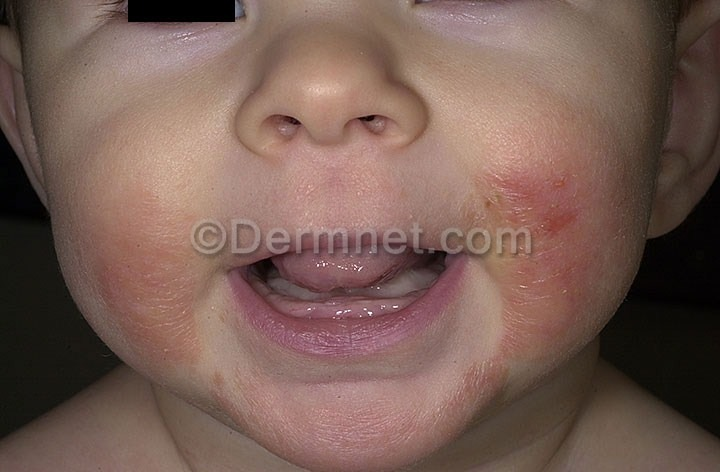Eczema: (471, 156, 618, 362), (66, 167, 218, 366), (232, 378, 468, 463)
